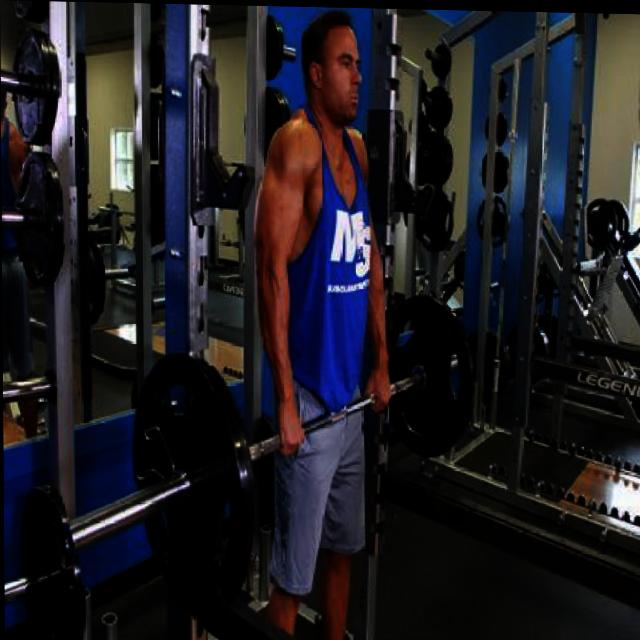barbell: (57, 348, 257, 626)
